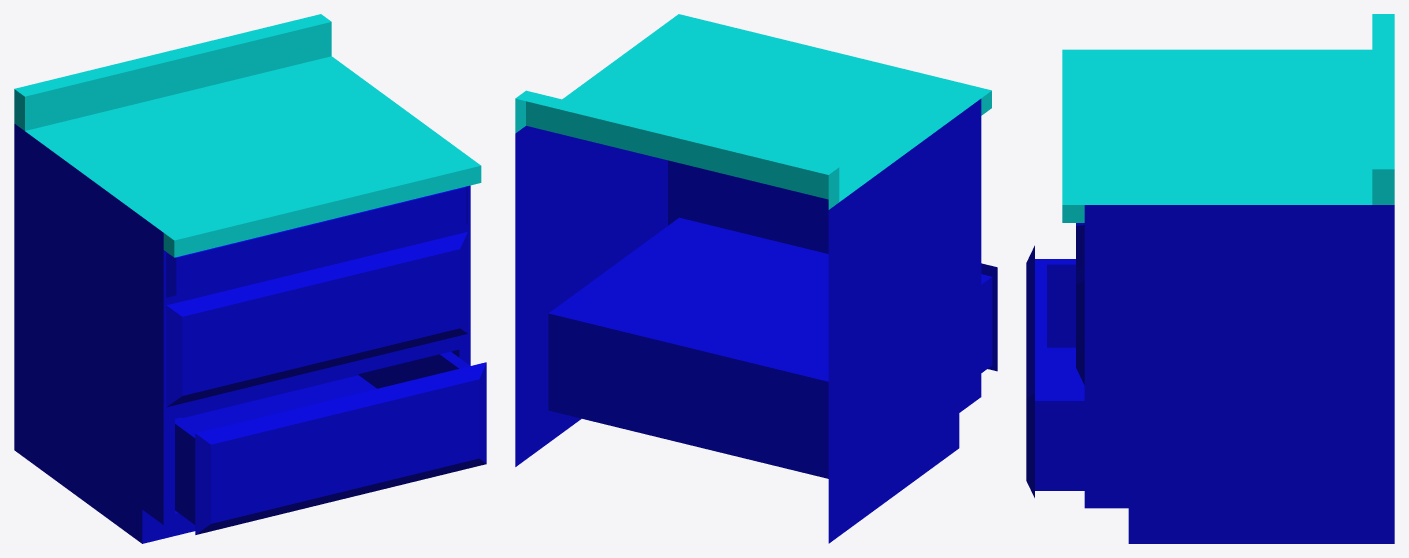
Rendered from Kitchen_LargeCabinet.fbx.
3 renders of one model, left to right at view 1: azimuth 30°, elevation 25°; view 2: azimuth 150°, elevation 25°; view 3: azimuth 270°, elevation 25°, orthographic. The views are drawn at different scales.
Visible parts, largest first — view 1: SM_LargeCabinet, SM_LargeDrawer; view 2: SM_LargeCabinet, SM_LargeDrawer; view 3: SM_LargeCabinet, SM_LargeDrawer.
Part boxes in pixels (x1,y1,x2,y2): SM_LargeCabinet: (14, 14, 481, 543); SM_LargeDrawer: (175, 351, 486, 534); SM_LargeCabinet: (515, 14, 991, 543); SM_LargeDrawer: (981, 263, 997, 372); SM_LargeCabinet: (1062, 14, 1394, 543); SM_LargeDrawer: (1026, 245, 1084, 497).
Size of the model in its own units: 100 by 112 by 100.
